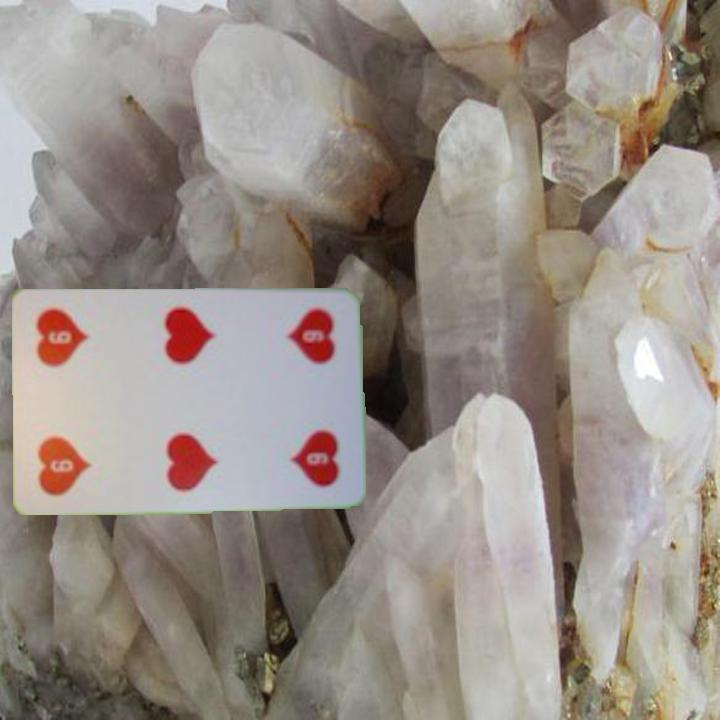h_6.png: (27, 398, 114, 499), (263, 304, 349, 404)
